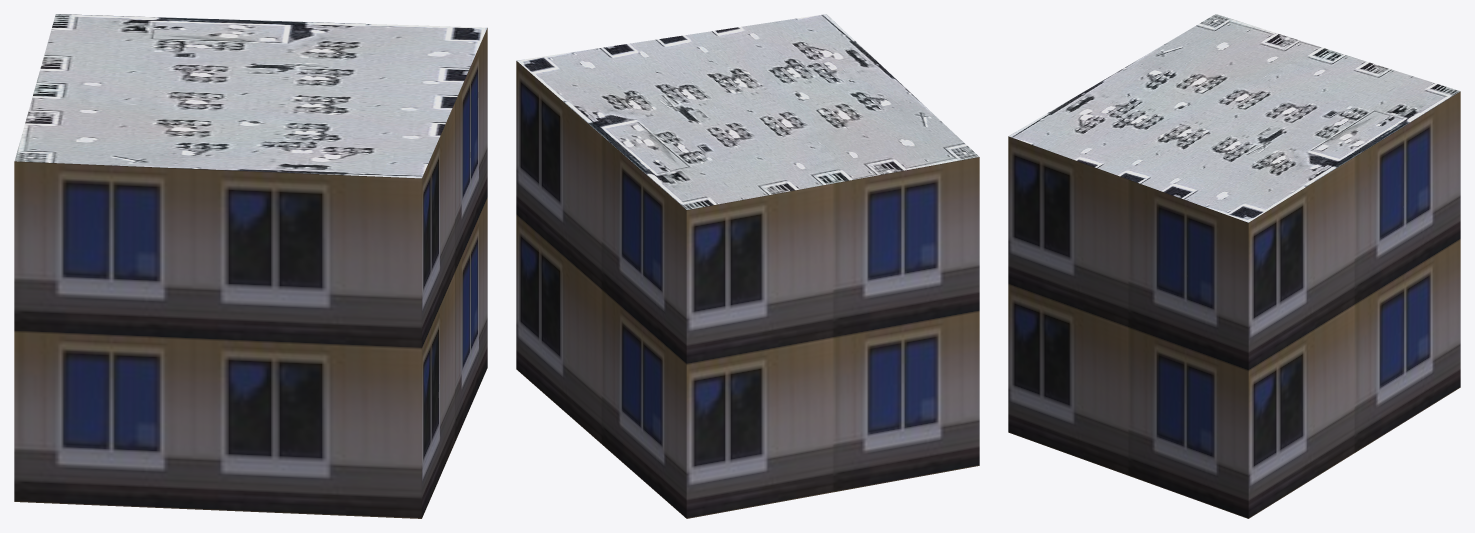
Rendered from ResTex__173.fbx.
The picture shows the model from 3 angles, left to right: view 1: azimuth 30°, elevation 25°; view 2: azimuth 150°, elevation 25°; view 3: azimuth 270°, elevation 25°; orthographic projection. The views are drawn at different scales.
Parts seen in each view (by area): view 1: CityEngineMaterial_5_m, CityEngineMaterial_4_m; view 2: CityEngineMaterial_5_m, CityEngineMaterial_4_m; view 3: CityEngineMaterial_5_m, CityEngineMaterial_4_m.
Part boxes in pixels (box(x1,y1,x2,y2)): CityEngineMaterial_5_m: box(14, 28, 487, 518); CityEngineMaterial_4_m: box(14, 14, 486, 178); CityEngineMaterial_5_m: box(516, 61, 979, 518); CityEngineMaterial_4_m: box(517, 14, 978, 209); CityEngineMaterial_5_m: box(1008, 91, 1460, 518); CityEngineMaterial_4_m: box(1009, 14, 1460, 222).
Size of the model in its own units: 9.07 by 6 by 8.3.
Materials: 2 (2 with a texture image).
